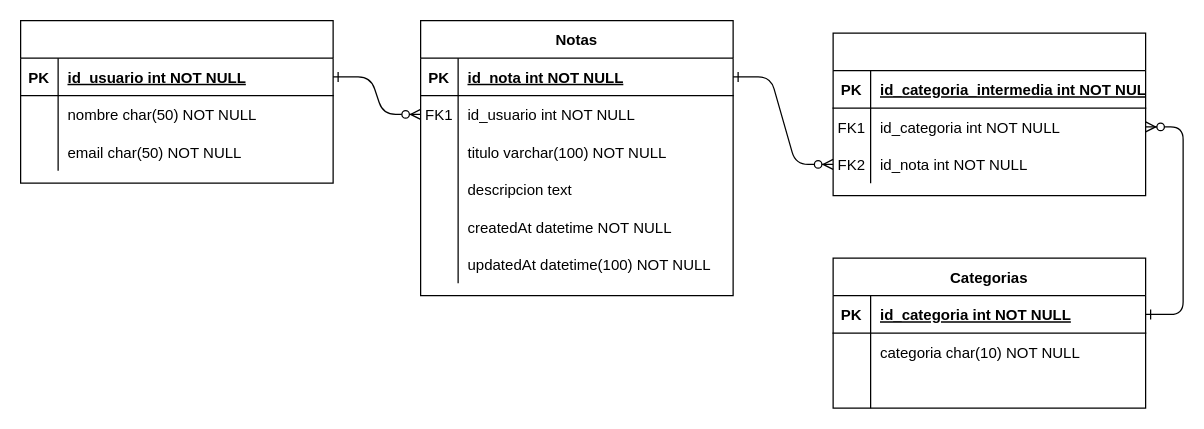
This 1204x429 diagram has some shape labels left out. Here are the shapes that lost their labels. From the top down, the box of each, then its label:
(19, 19, 333, 183): Usuarios
(832, 32, 1146, 196): Categorias_intermedia
